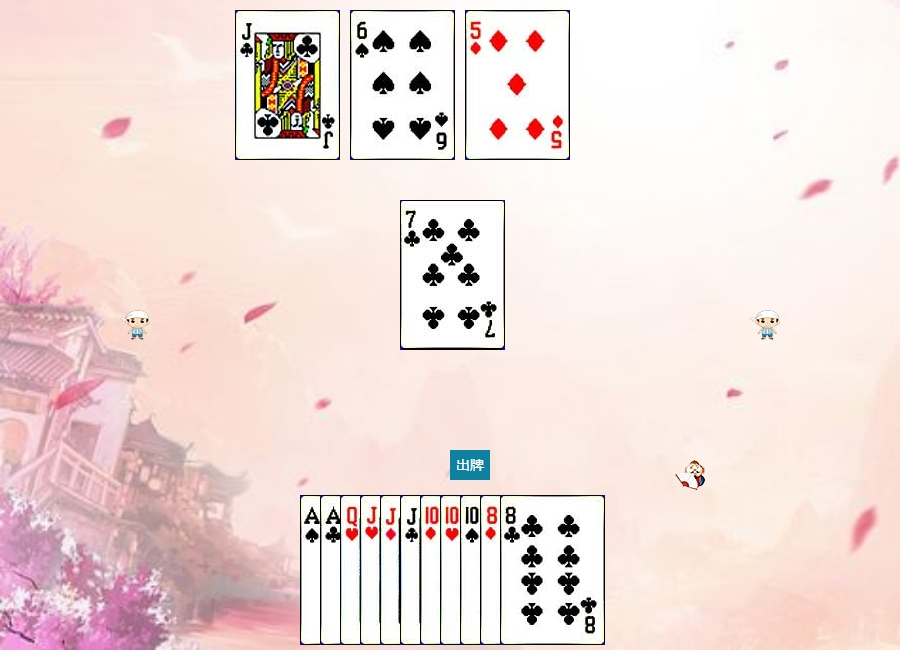10~1: (420, 495, 525, 645)
10~3: (440, 495, 545, 645)
10~4: (460, 495, 565, 645)
11~1: (380, 495, 485, 645)
11~2: (235, 10, 340, 160), (400, 495, 505, 645)
11~3: (360, 495, 465, 645)
12~3: (340, 495, 445, 645)
14~2: (320, 495, 425, 645)
14~4: (300, 495, 405, 645)
5~1: (465, 10, 570, 160)
6~4: (350, 10, 455, 160)
7~2: (400, 200, 505, 350)
8~1: (480, 495, 585, 645)
8~2: (500, 495, 605, 645)
